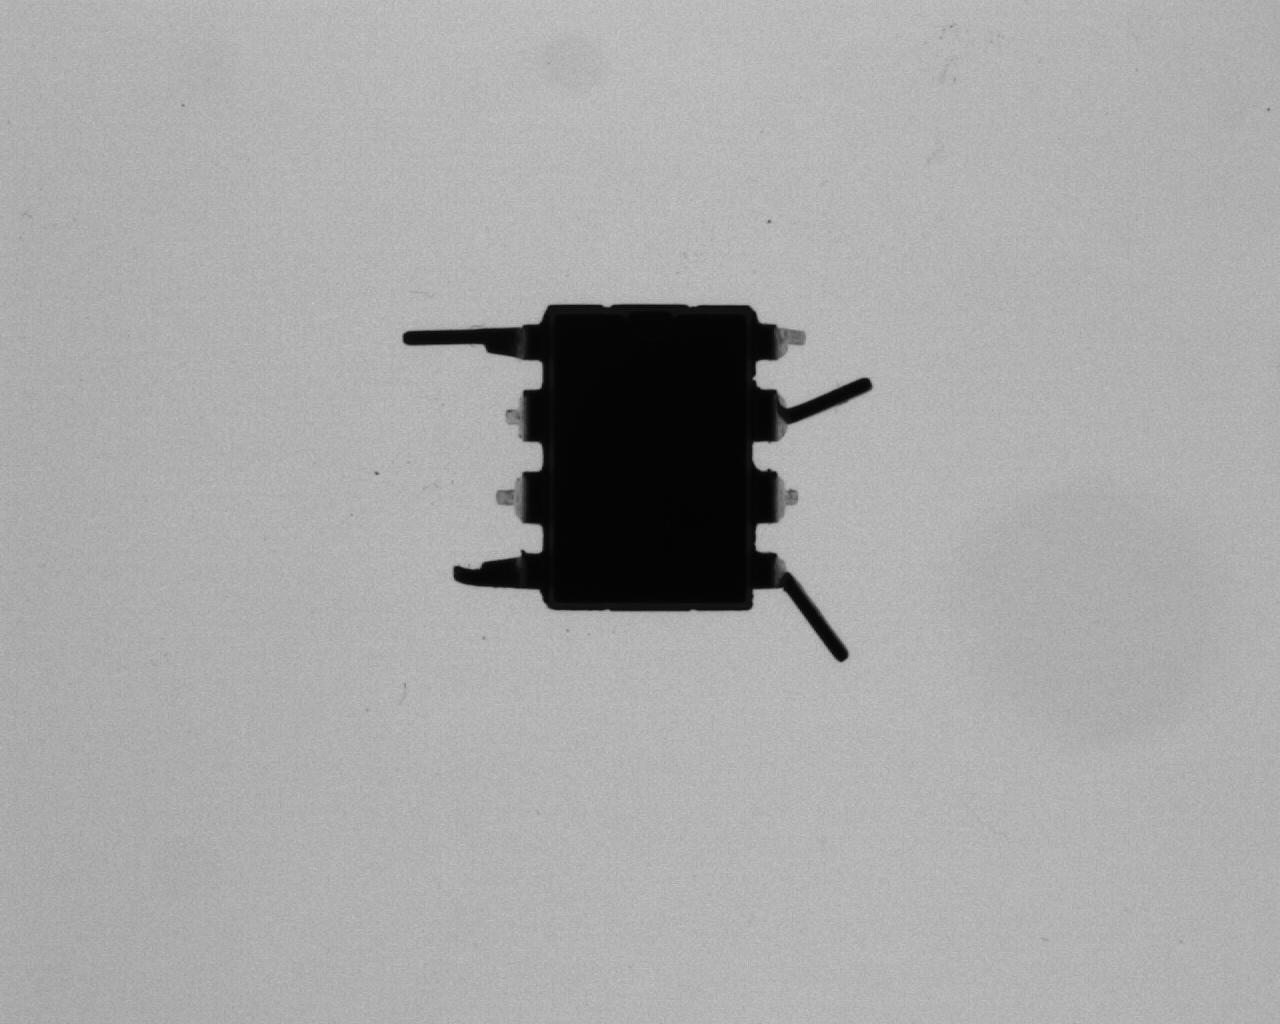Leg: (754, 545, 851, 665), (754, 376, 877, 445), (371, 324, 548, 363), (488, 469, 544, 526), (490, 386, 544, 444), (752, 317, 812, 366), (752, 465, 800, 522)
brokenLeg: (455, 549, 548, 603)
